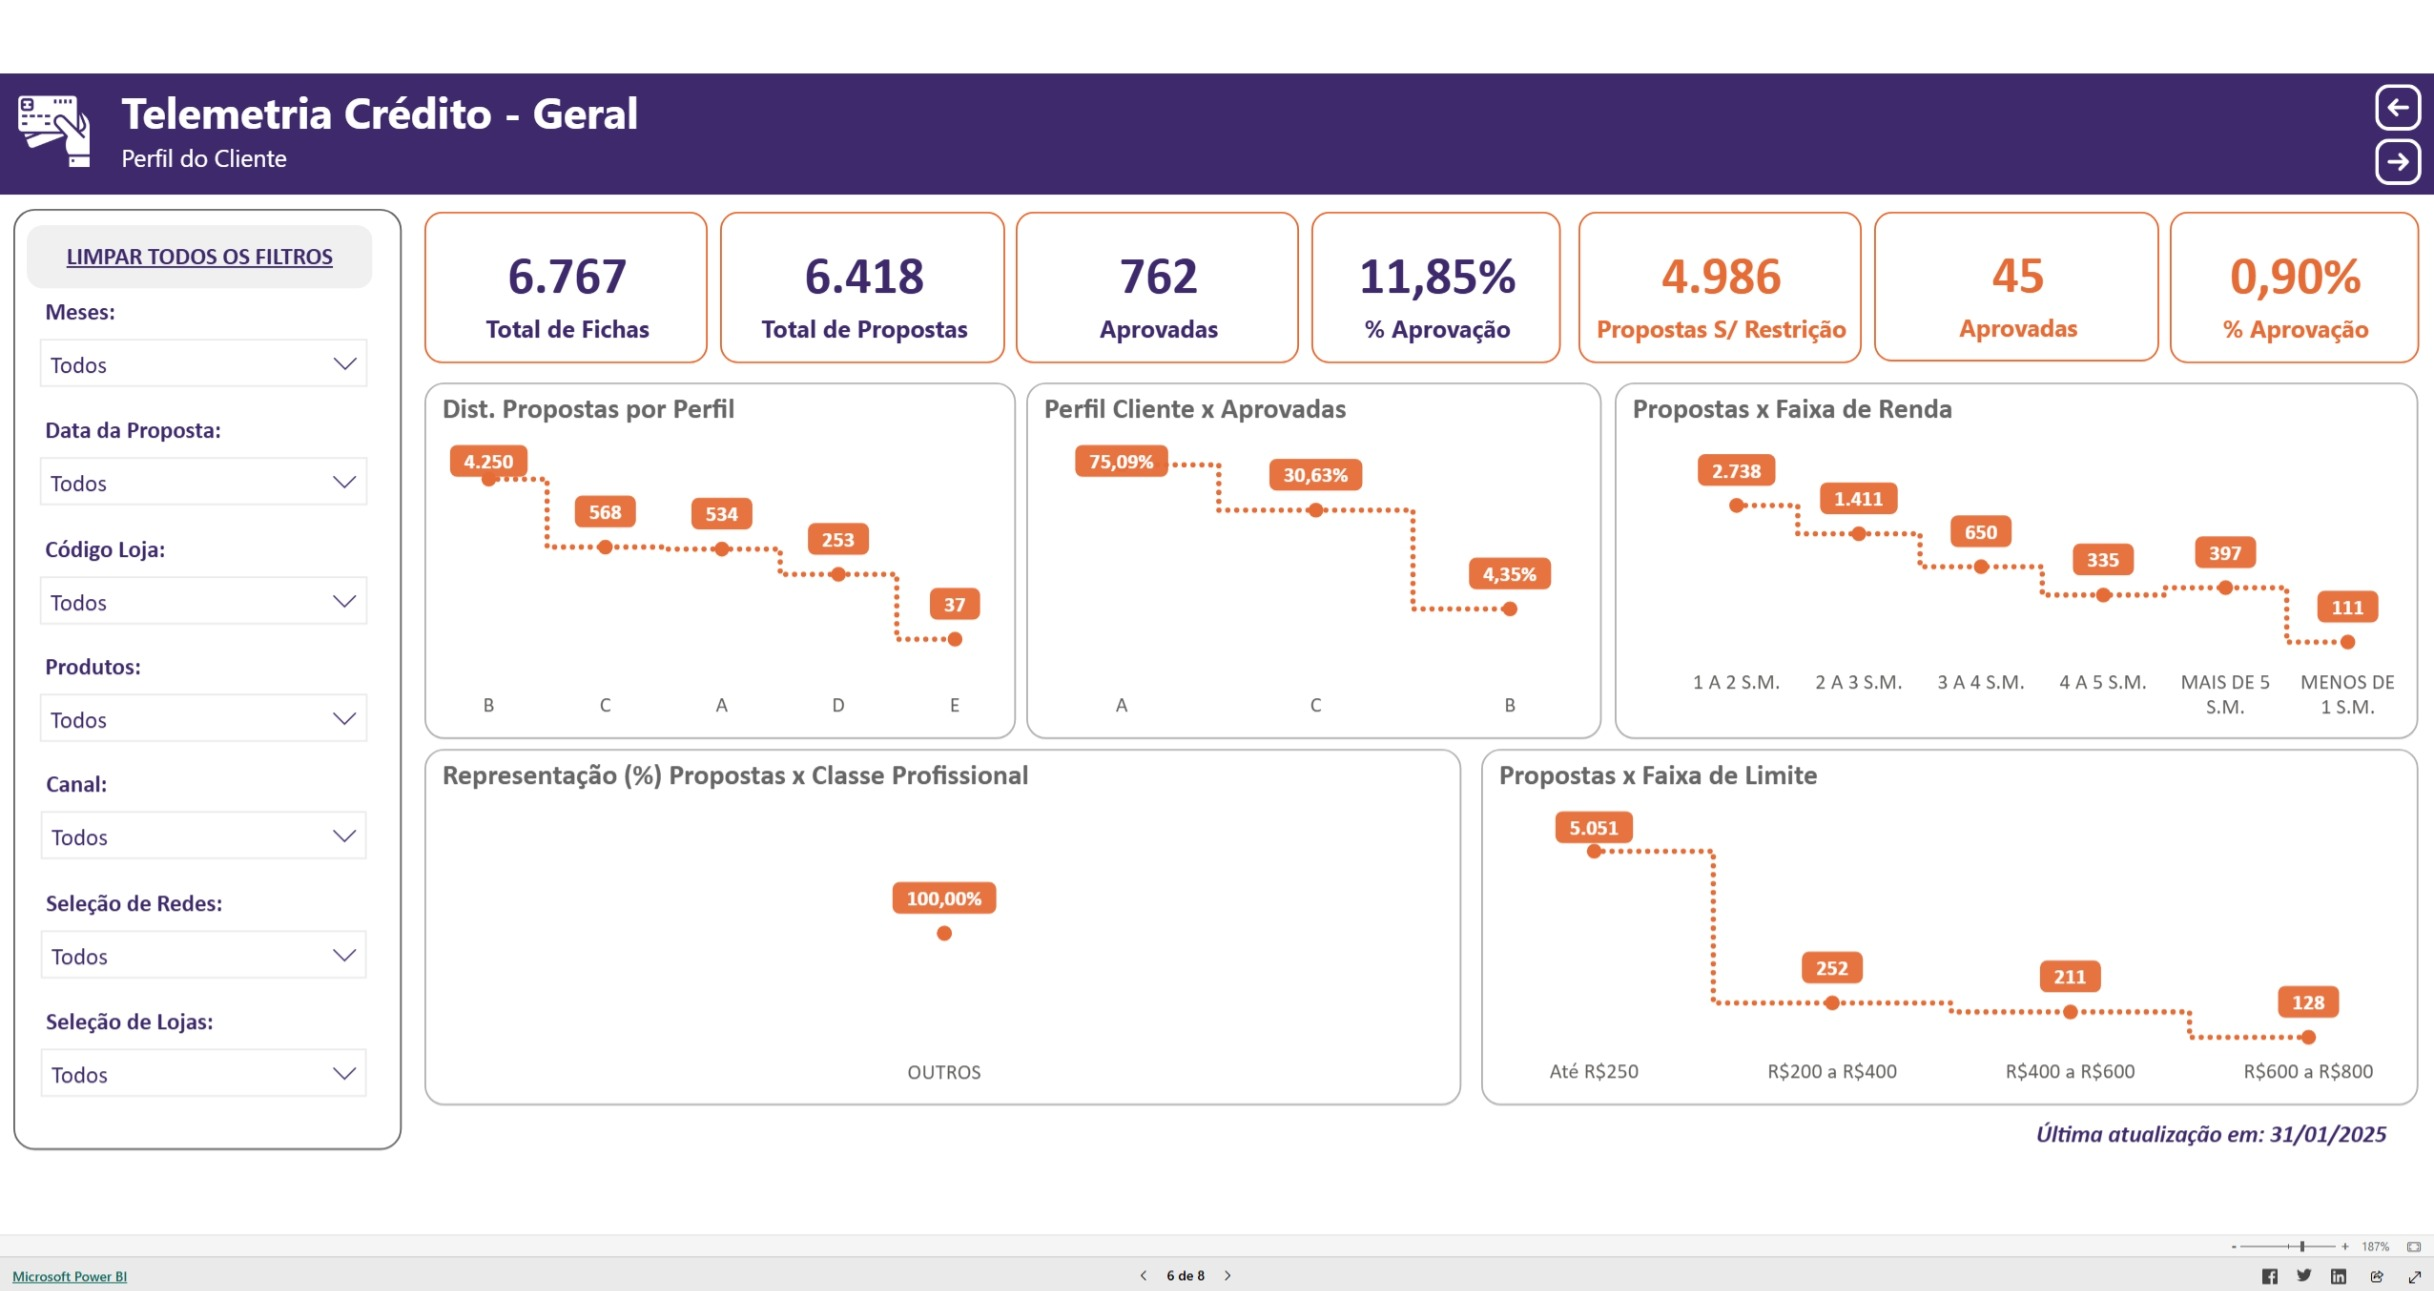

The page's visual inventory and layout, read from the dashboard file:
{"tool":"powerbi","page":{"name":"Perfil Cliente","canvas":[1366,610],"ordinal":5},"visuals":[{"type":"shape","box":[7.6,76.2,218.4,528.1],"z":0},{"type":"shape","box":[0,0,1366,68],"z":2000},{"type":"textbox","box":[63.4,0,430.8,44.4],"z":3000},{"type":"textbox","box":[63.2,33.8,430.4,30.8],"z":4000},{"type":"slicer","fields":{"Values":["Propostas.emissao.Variation.Hierarquia de datas.Ano","Propostas.emissao.Variation.Hierarquia de datas.Mês"]},"box":[12.5,119.9,204.2,64.6],"z":5000},{"type":"slicer","fields":{"Values":["Propostas.emissao"]},"box":[12.4,186.1,203.7,65.9],"z":6000},{"type":"slicer","fields":{"Values":["Propostas.lojista"]},"box":[12.4,253.2,203.7,64.7],"z":7000},{"type":"slicer","fields":{"Values":["Propostas.nome_produto"]},"box":[12.4,319.1,203.7,64.7],"z":8000},{"type":"slicer","fields":{"Values":["Propostas.nome_rede"]},"box":[12.7,451.9,203.1,64.7],"z":9000},{"type":"slicer","fields":{"Values":["Propostas.nome_loja"]},"box":[12.7,518,203.1,64.7],"z":10000},{"type":"slicer","fields":{"Values":["Propostas.canal"]},"box":[12.7,384.7,203.1,64.7],"z":11000},{"type":"shape","box":[15.2,85.1,194.2,35.5],"z":12000},{"type":"card","fields":{"Values":["Sum(Propostas.qtd_propostas)"]},"box":[237.9,77.8,158.6,85.2],"z":13000},{"type":"card","fields":{"Values":["Sum(Propostas.qtd_propostas)"]},"box":[403.9,77.8,160.1,85.2],"z":14000},{"type":"card","fields":{"Values":["Sum(Propostas.qtd_propostas)"]},"box":[569.9,77.8,158.6,85.2],"z":15000},{"type":"card","fields":{"Values":["#Medidas.%_Aprovadas"]},"box":[735.9,77.8,139.5,85.2],"z":16000},{"type":"card","fields":{"Values":["Sum(Propostas.qtd_propostas)"]},"box":[885.7,77.8,158.6,85.2],"z":17000},{"type":"card","fields":{"Values":["#Medidas.%_Aprovadas"]},"box":[1217.6,77.8,139.5,85.2],"z":18000},{"type":"card","fields":{"Values":["#Medidas.atualizacao"]},"box":[1115.9,583.3,250.1,26.7],"z":19000},{"type":"card","fields":{"Values":["Sum(Propostas.qtd_propostas)"]},"box":[1051.7,77.8,160.1,83.7],"z":20000},{"type":"image","box":[4.4,7.3,52.9,49.9],"z":21000},{"type":"image","box":[1327.9,31.7,35.5,35.5],"z":22000},{"type":"image","box":[1327.9,1.3,35.5,35.5],"z":23000},{"type":"lineChart","title":"Dist. Propostas por Perfil","fields":{"Category":["Propostas.perfil"],"Y":["Sum(Propostas.qtd_propostas)"]},"box":[237.9,173.3,332,199.8],"z":25000},{"type":"lineChart","title":"Propostas x Faixa de Renda","fields":{"Category":["Propostas.faixa_renda"],"Y":["Sum(Propostas.qtd_propostas)"]},"box":[906.3,173.3,450.9,199.8],"z":26000},{"type":"lineChart","title":"Propostas x Faixa de Limite","fields":{"Category":["Propostas.faixa_limite"],"Y":["Sum(Propostas.qtd_propostas)"]},"box":[831.4,379,525.8,199.8],"z":27000},{"type":"lineChart","title":"Perfil Cliente x Aprovadas","fields":{"Category":["Propostas.perfil"],"Y":["#Medidas.%_Aprovadas"]},"box":[575.8,173.3,323.1,199.8],"z":28000},{"type":"lineChart","title":"Representação (%) Propostas x Classe Profissional","fields":{"Category":["Propostas.classe_profissional"],"Y":["Divide(Sum(Propostas.qtd_propostas), ScopedEval(Sum(Propostas.qtd_propostas), []))"]},"box":[237.9,379,581.7,200],"z":29000}]}

Visuals, with their boxes on the page's 1366x610 design canvas (x1, y1, x2, y2). These are canvas units, not pixel positions in the 2434x1291 screenshot, which may show the page scaled, cropped or inside an application window:
shape: [8, 76, 226, 604]
shape: [0, 0, 1366, 68]
textbox: [63, 0, 494, 44]
textbox: [63, 34, 494, 65]
slicer - Propostas.emissao.Variation.Hierarquia de datas.Ano x Propostas.emissao.Variation.Hierarquia de datas.Mês: [12, 120, 217, 184]
slicer - Propostas.emissao: [12, 186, 216, 252]
slicer - Propostas.lojista: [12, 253, 216, 318]
slicer - Propostas.nome_produto: [12, 319, 216, 384]
slicer - Propostas.nome_rede: [13, 452, 216, 517]
slicer - Propostas.nome_loja: [13, 518, 216, 583]
slicer - Propostas.canal: [13, 385, 216, 449]
shape: [15, 85, 209, 121]
card - Sum(Propostas.qtd_propostas): [238, 78, 396, 163]
card - Sum(Propostas.qtd_propostas): [404, 78, 564, 163]
card - Sum(Propostas.qtd_propostas): [570, 78, 728, 163]
card - #Medidas.%_Aprovadas: [736, 78, 875, 163]
card - Sum(Propostas.qtd_propostas): [886, 78, 1044, 163]
card - #Medidas.%_Aprovadas: [1218, 78, 1357, 163]
card - #Medidas.atualizacao: [1116, 583, 1366, 610]
card - Sum(Propostas.qtd_propostas): [1052, 78, 1212, 162]
image: [4, 7, 57, 57]
image: [1328, 32, 1363, 67]
image: [1328, 1, 1363, 37]
"Dist. Propostas por Perfil" lineChart: [238, 173, 570, 373]
"Propostas x Faixa de Renda" lineChart: [906, 173, 1357, 373]
"Propostas x Faixa de Limite" lineChart: [831, 379, 1357, 579]
"Perfil Cliente x Aprovadas" lineChart: [576, 173, 899, 373]
"Representação (%) Propostas x Classe Profissional" lineChart: [238, 379, 820, 579]
